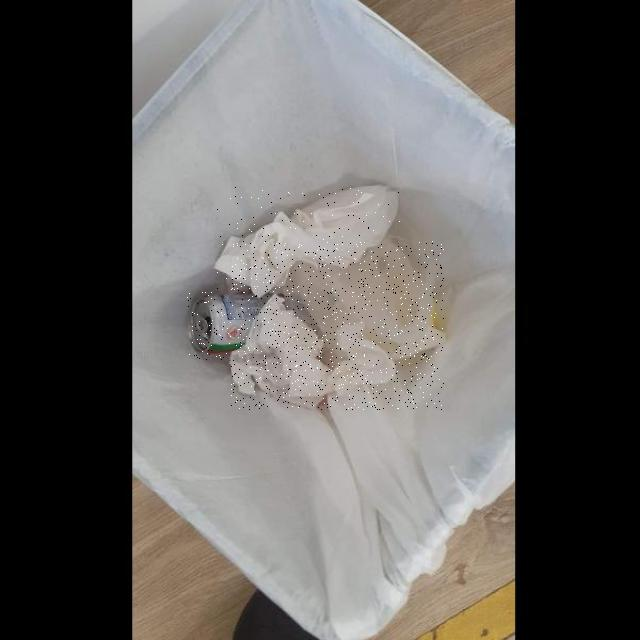metal: (186, 290, 279, 360)
paper: (231, 241, 444, 410), (215, 187, 400, 299)
